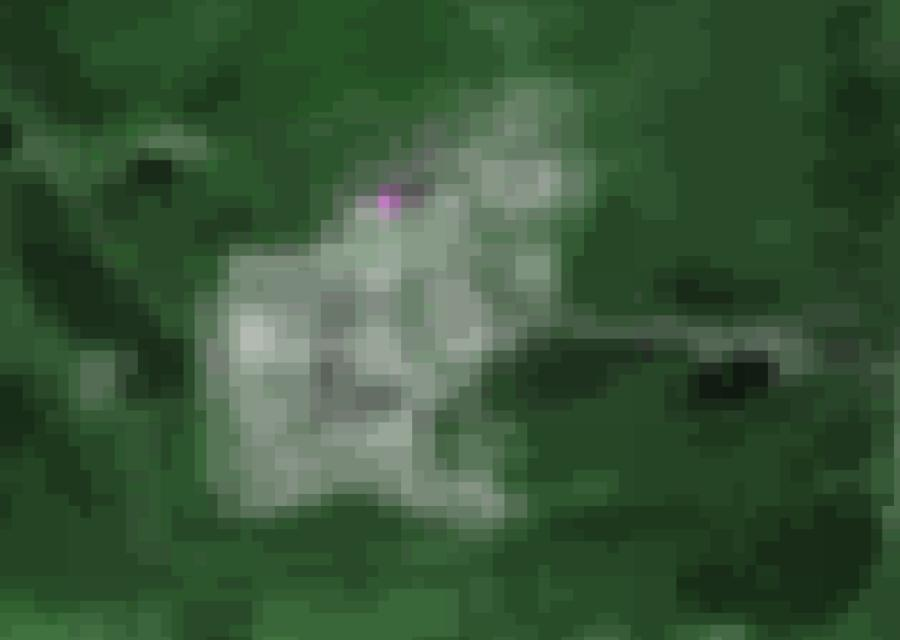Potential Lime Manufacturing Facility: (378, 187, 397, 221)
